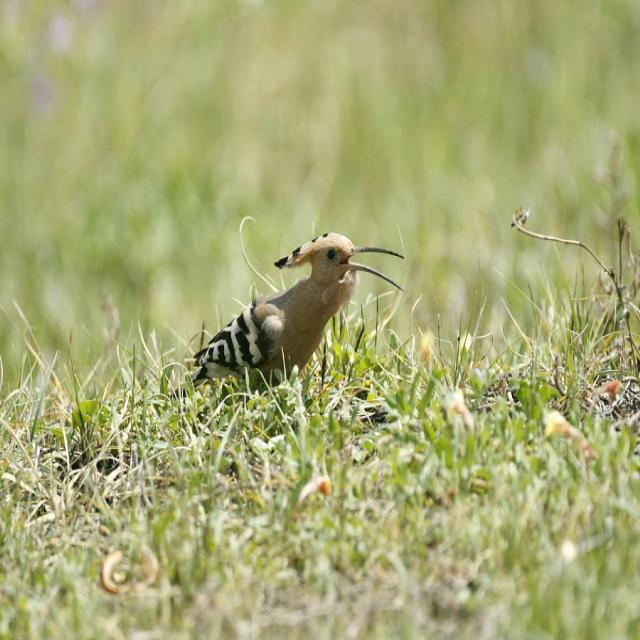bird: (189, 231, 406, 404)
